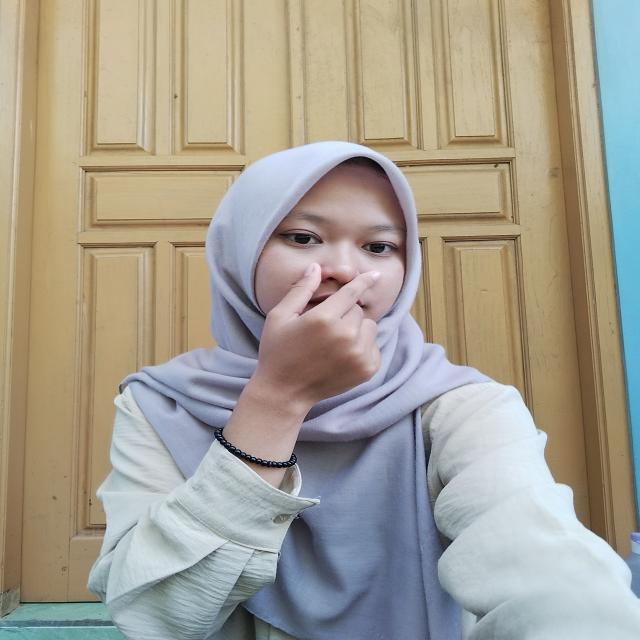bau: (234, 254, 395, 416)
